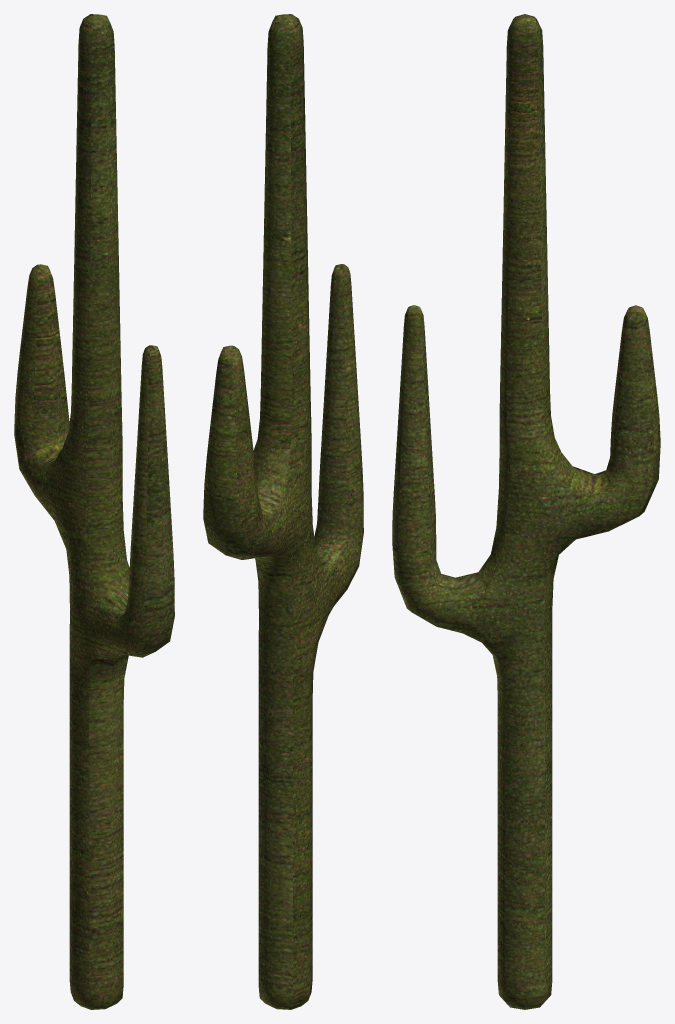
File: cactus 1.glb
3 views of the same model, side by side, from view 1: azimuth 30°, elevation 25°; view 2: azimuth 150°, elevation 25°; view 3: azimuth 270°, elevation 25° (orthographic).
Parts seen in each view (by area): view 1: Plane.030; view 2: Plane.030; view 3: Plane.030.
Part boxes in pixels (x1,y1,x2,y2): Plane.030: [14, 14, 174, 1009]; Plane.030: [203, 14, 363, 1009]; Plane.030: [392, 14, 660, 1009].
Size of the model in its own units: 0.0578 by 0.9853 by 0.2423.
Materials: 1 (1 with a texture image).
